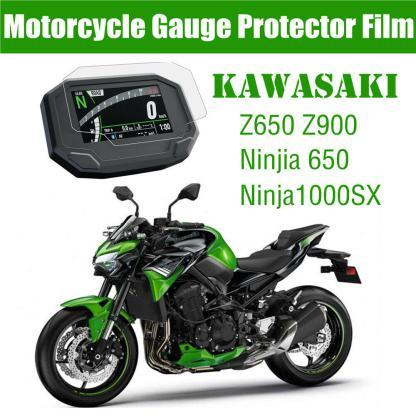Motorcycle: (31, 186, 373, 412)
